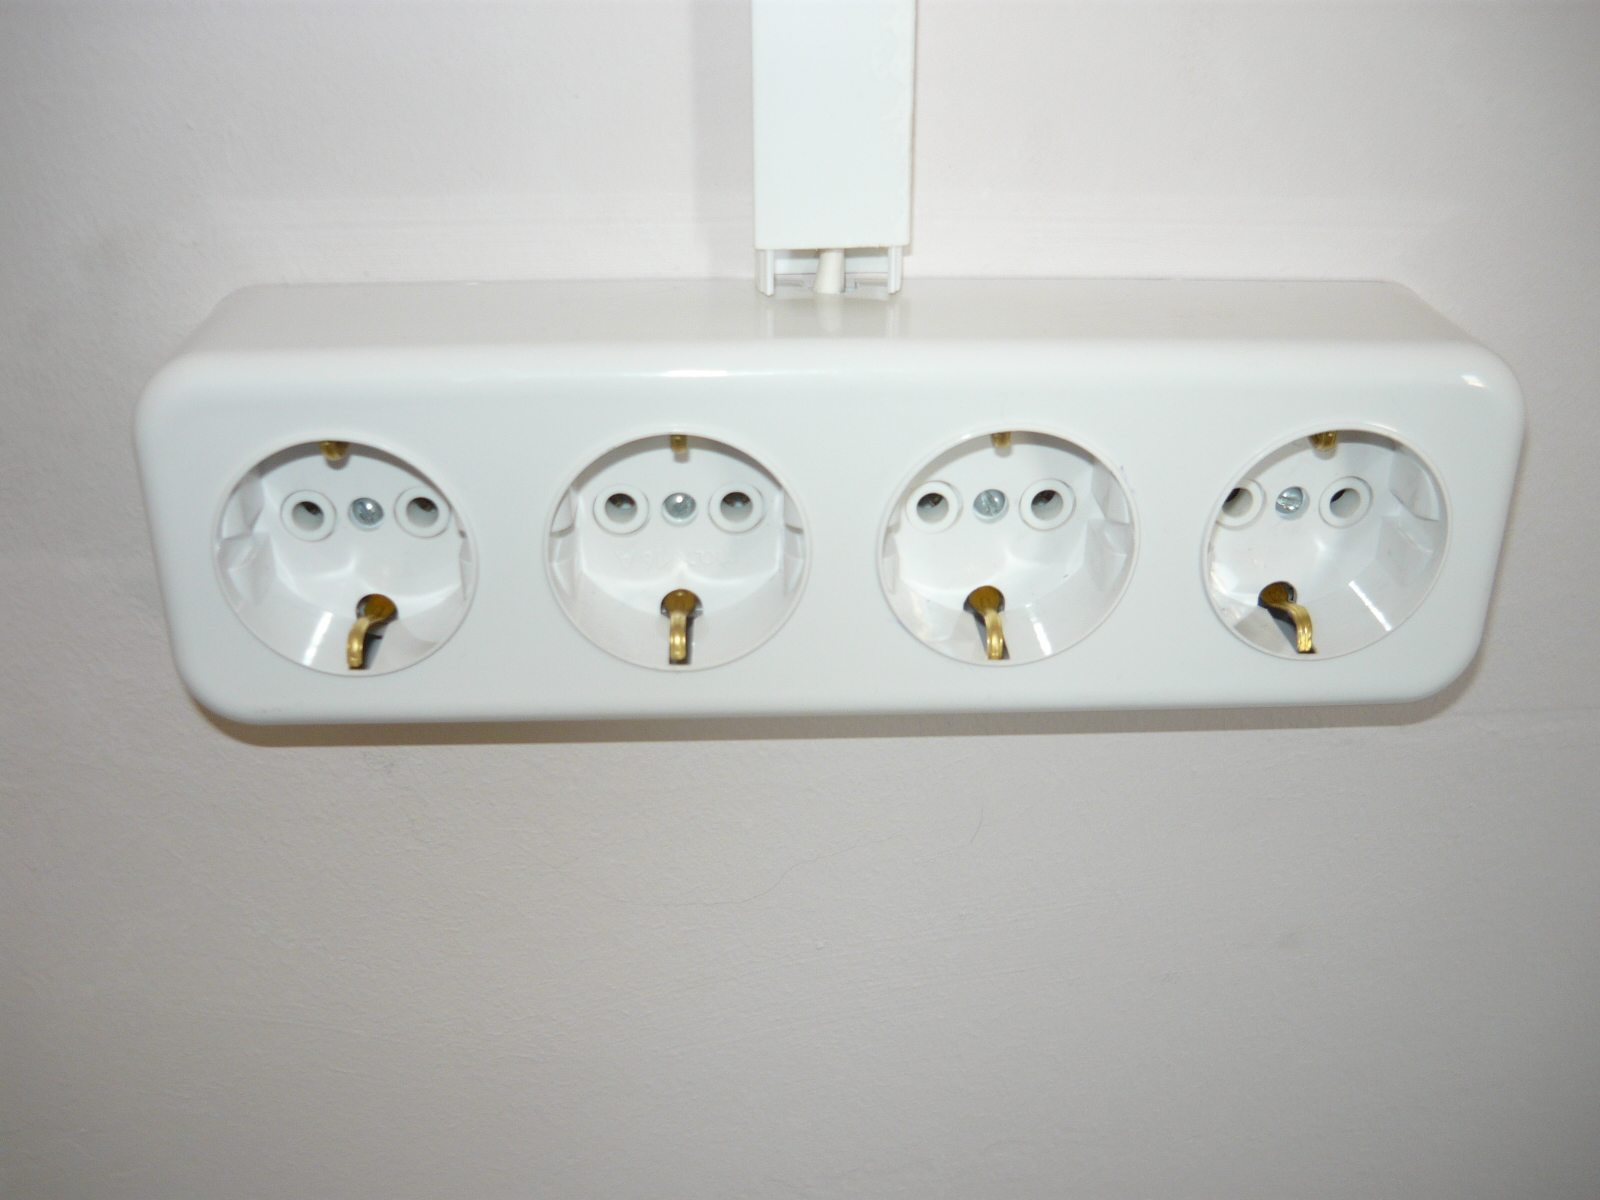raccoon: (876, 413, 1141, 684), (207, 424, 479, 686), (1199, 412, 1453, 676), (540, 424, 809, 672)
